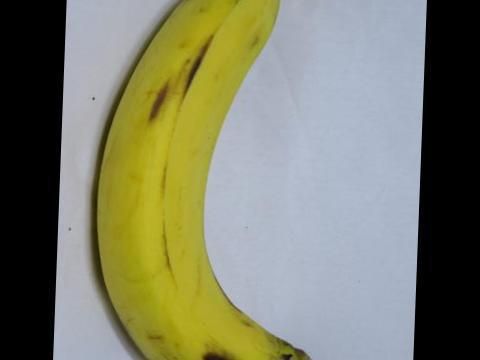freshripe: (81, 0, 325, 359)
